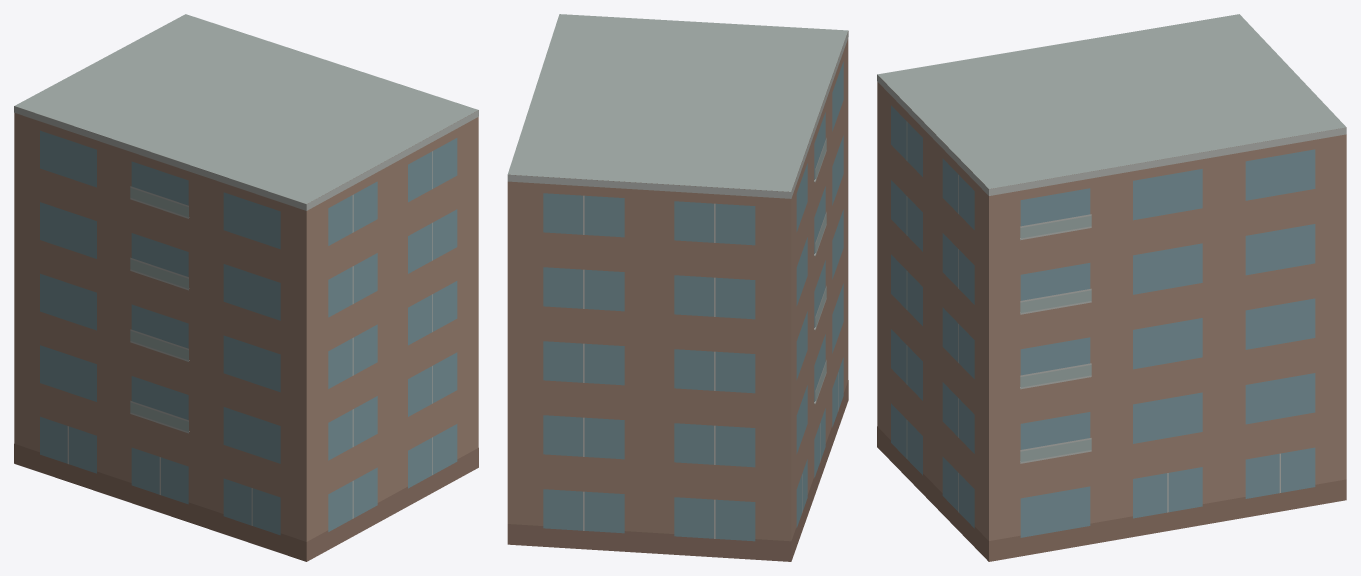
Rendered from survey-upis-32618741.glb.
The picture shows the model from 3 angles, left to right: view 1: azimuth 30°, elevation 25°; view 2: azimuth 150°, elevation 25°; view 3: azimuth 270°, elevation 25°; orthographic projection. The views are drawn at different scales.
Visible parts, largest first — view 1: survey-upis-32618741.tmp; view 2: survey-upis-32618741.tmp; view 3: survey-upis-32618741.tmp.
Part boxes in pixels (x1,y1,x2,y2): survey-upis-32618741.tmp: [14, 14, 478, 561]; survey-upis-32618741.tmp: [507, 14, 848, 561]; survey-upis-32618741.tmp: [877, 14, 1346, 561].
Size of the model in its own units: 13.11 by 13 by 14.85.
